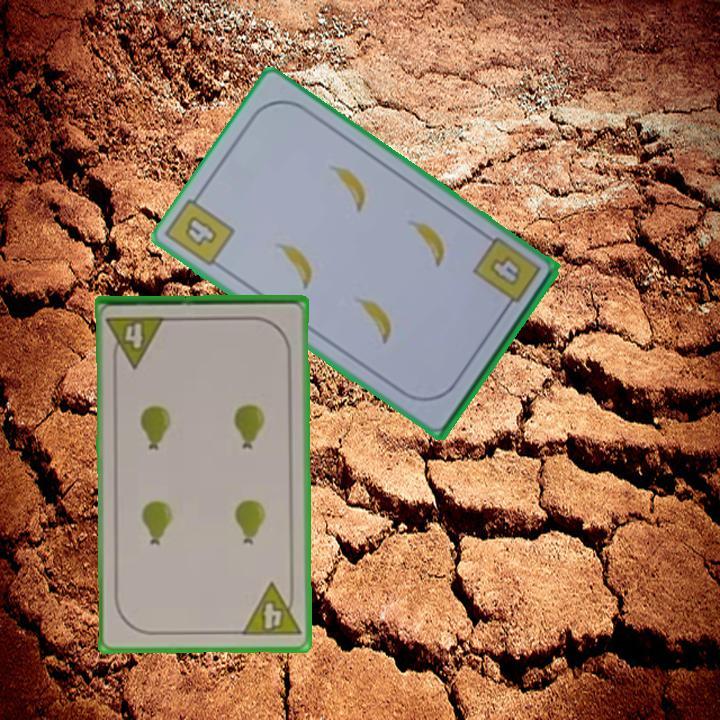4b: (469, 233, 544, 316), (180, 212, 220, 250)
4p: (238, 579, 303, 640), (103, 313, 168, 370)
